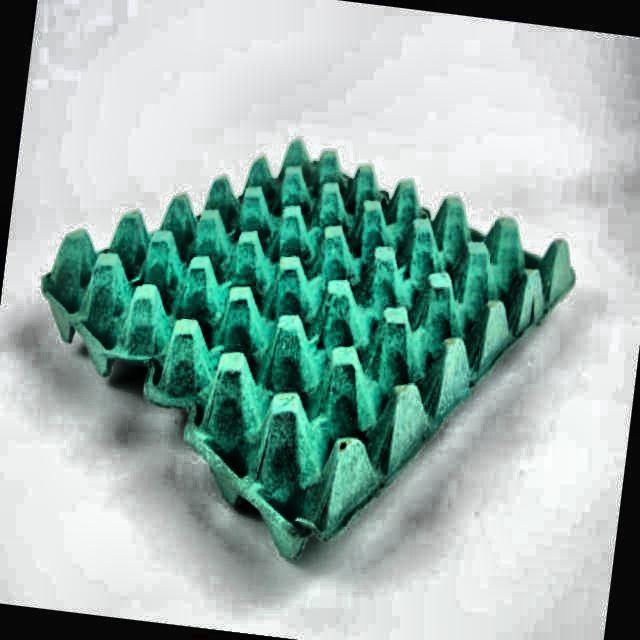cardboard: (39, 141, 577, 565)
